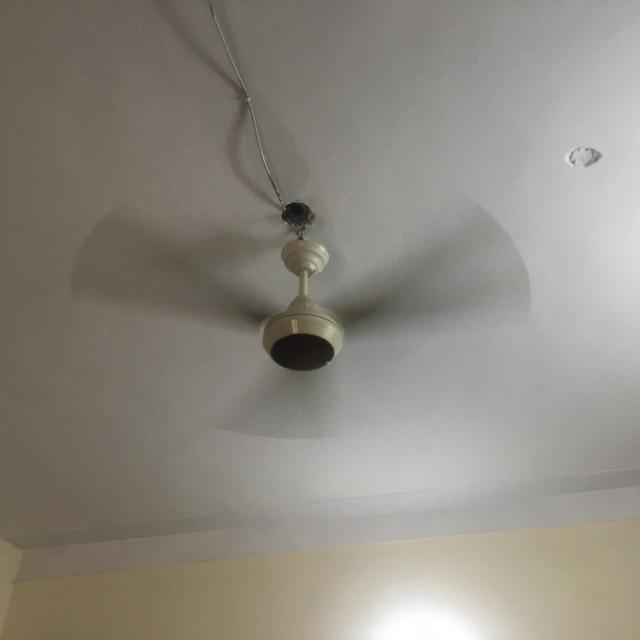on: (64, 186, 536, 454)
